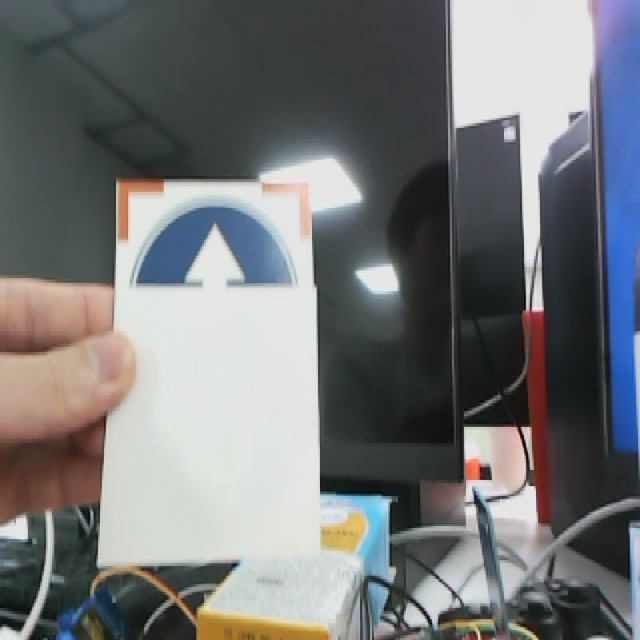strait: (113, 180, 315, 286)
